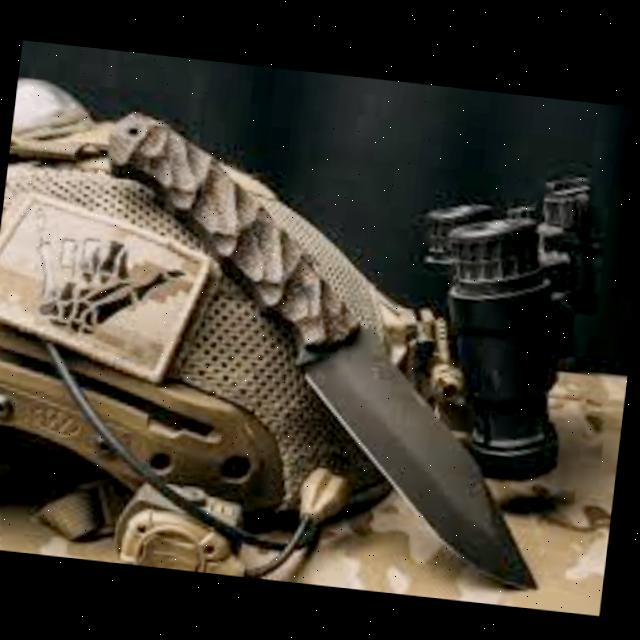Knife: (64, 166, 582, 589), (278, 311, 568, 590)
